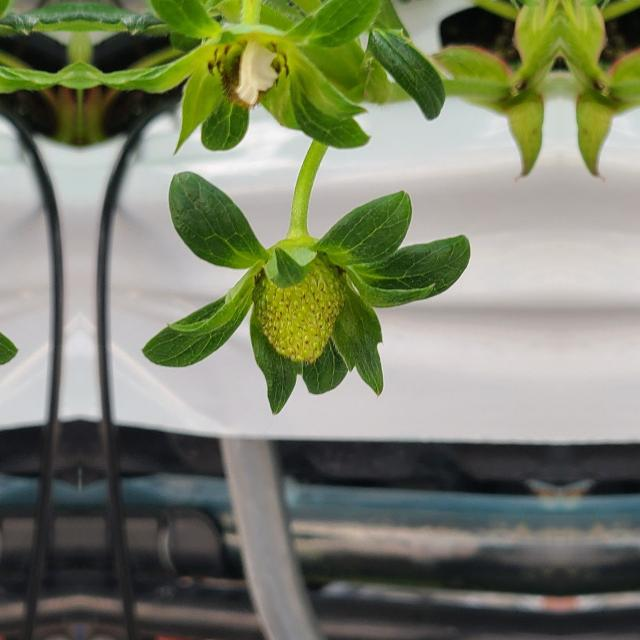Health_25: (257, 256, 339, 364)
